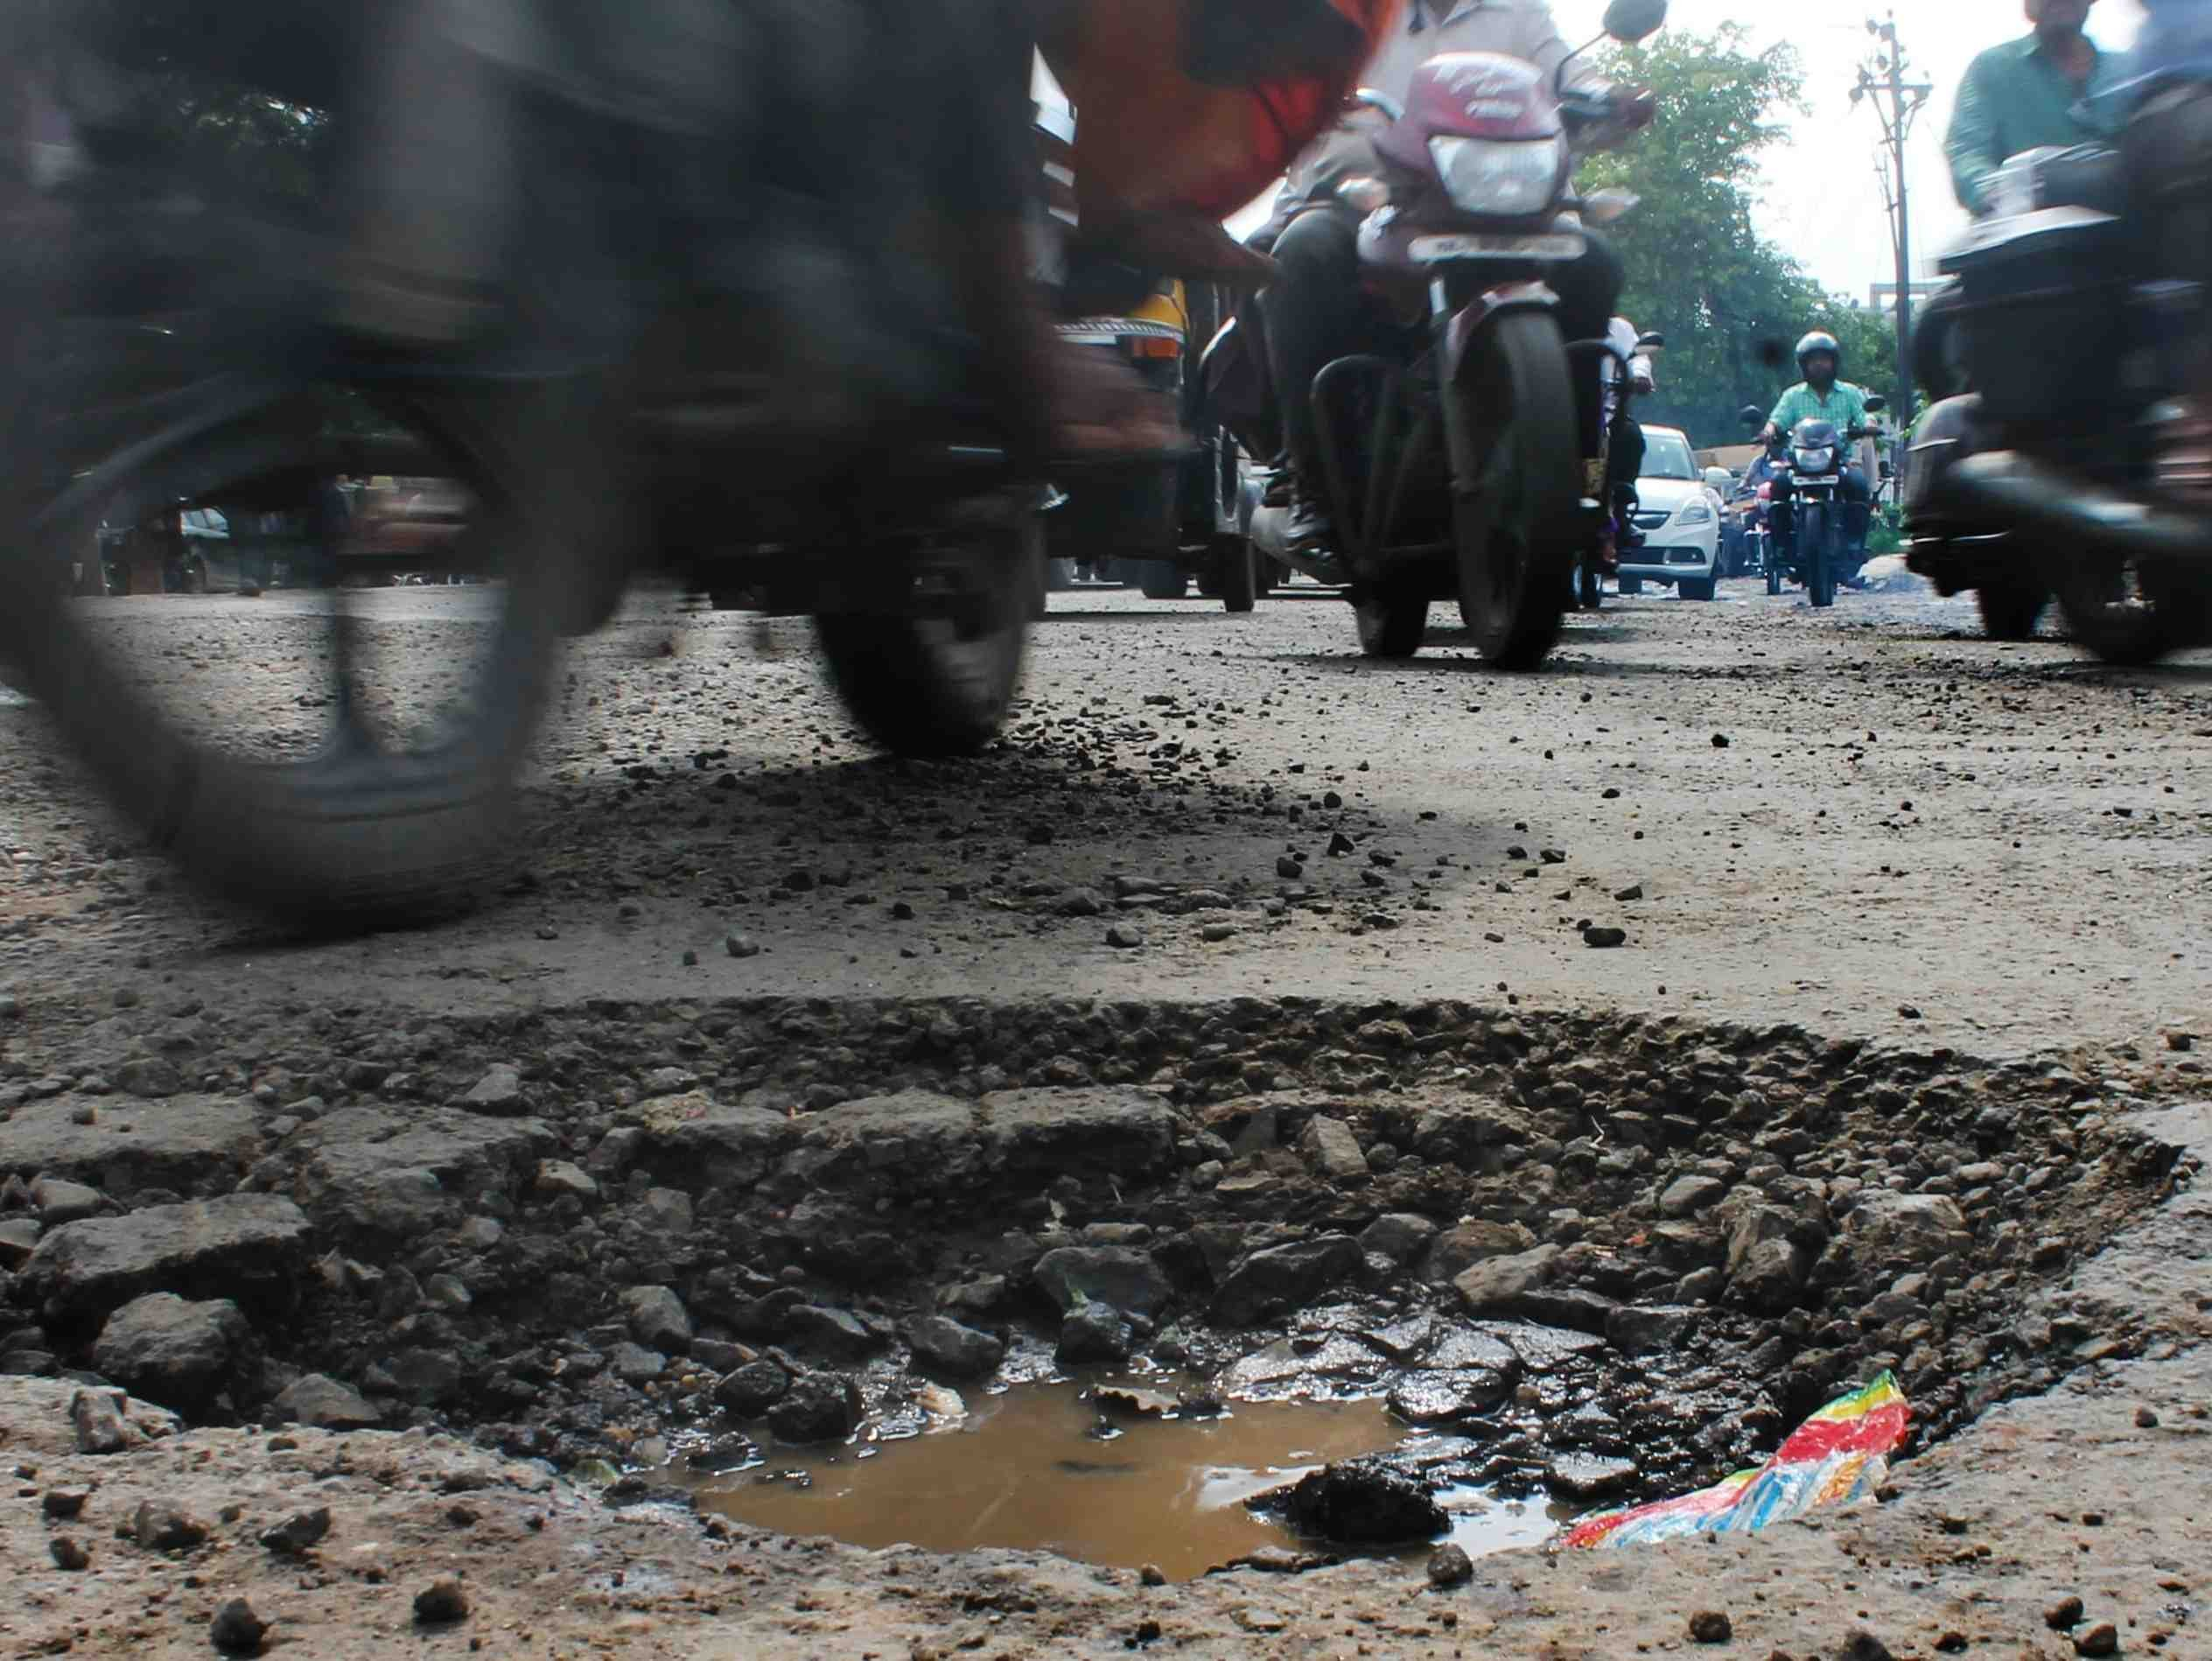pothole: (183, 1012, 1996, 1548)
